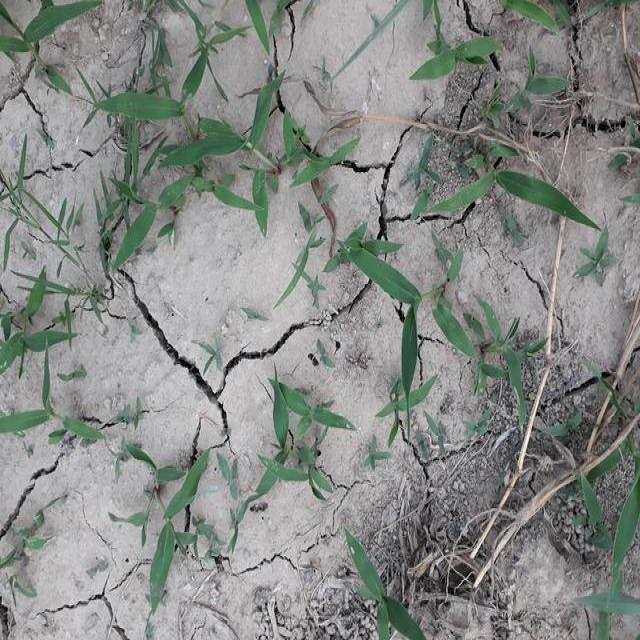weed: (156, 93, 351, 219), (435, 292, 538, 409), (440, 159, 576, 235), (1, 143, 78, 259), (142, 459, 205, 600), (365, 247, 423, 392), (259, 393, 336, 502), (0, 380, 94, 453), (588, 491, 633, 632), (352, 549, 409, 640), (178, 24, 243, 102), (2, 292, 64, 365), (400, 43, 507, 85), (398, 143, 446, 231), (110, 165, 158, 251), (285, 215, 327, 311), (2, 2, 107, 40), (102, 90, 194, 130), (511, 47, 556, 121), (378, 384, 439, 438), (19, 46, 73, 101), (0, 516, 56, 564), (137, 14, 177, 74), (576, 231, 616, 286), (100, 432, 150, 476), (238, 0, 296, 37), (506, 0, 554, 44), (542, 404, 586, 443), (74, 279, 107, 329), (225, 497, 260, 540), (214, 454, 244, 496), (194, 334, 227, 372), (462, 412, 496, 448), (110, 394, 141, 425), (316, 58, 342, 88), (318, 334, 334, 374), (245, 304, 267, 332), (125, 311, 145, 340), (368, 439, 386, 469)
